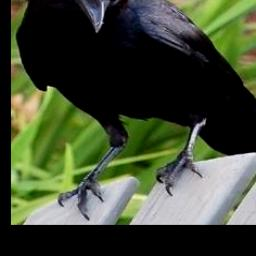Crow: (16, 0, 256, 221)
